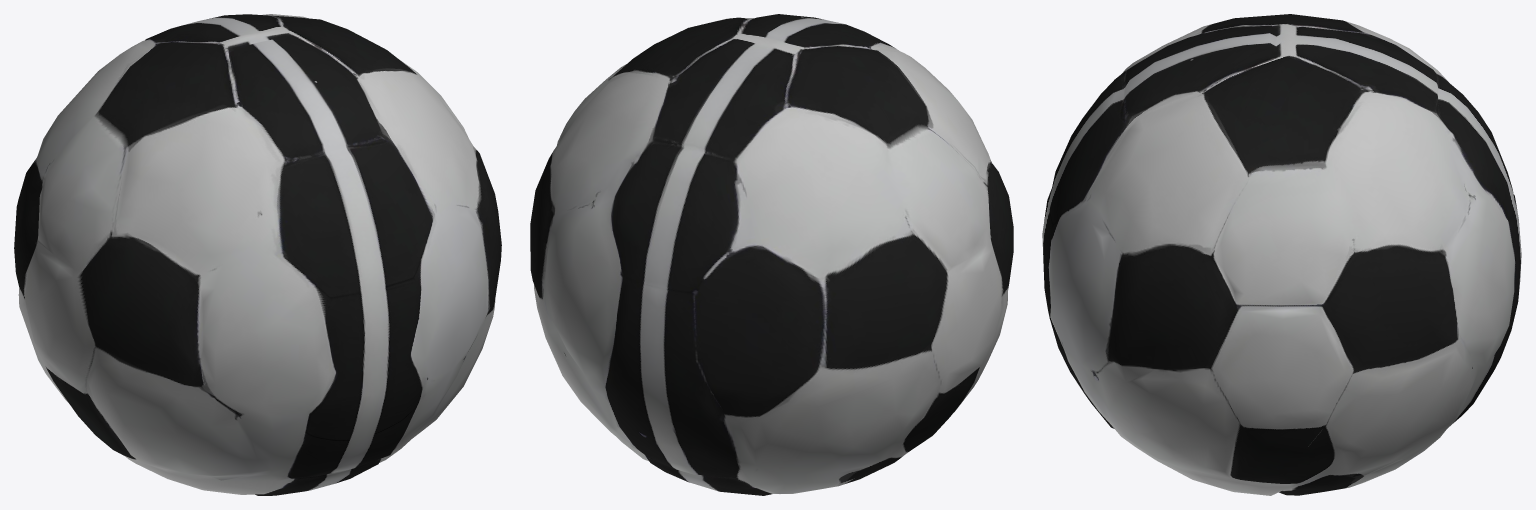
The model's file is prop_field-soccer-ball_be41c5.glb.
3 renders of one model, left to right at view 1: azimuth 30°, elevation 25°; view 2: azimuth 150°, elevation 25°; view 3: azimuth 270°, elevation 25°, orthographic.
Parts seen in each view (by area): view 1: tripo_node_0dabc95d-b977-4ae8-912f-43c47f8707cf; view 2: tripo_node_0dabc95d-b977-4ae8-912f-43c47f8707cf; view 3: tripo_node_0dabc95d-b977-4ae8-912f-43c47f8707cf.
Boxes of the visible parts, x1=… form: tripo_node_0dabc95d-b977-4ae8-912f-43c47f8707cf: x1=14, y1=14, x2=501, y2=495; tripo_node_0dabc95d-b977-4ae8-912f-43c47f8707cf: x1=530, y1=14, x2=1013, y2=495; tripo_node_0dabc95d-b977-4ae8-912f-43c47f8707cf: x1=1042, y1=14, x2=1521, y2=495.
Size of the model in its own units: 0.9992 by 0.9998 by 0.9969.
Materials: 1 (1 with a texture image).
